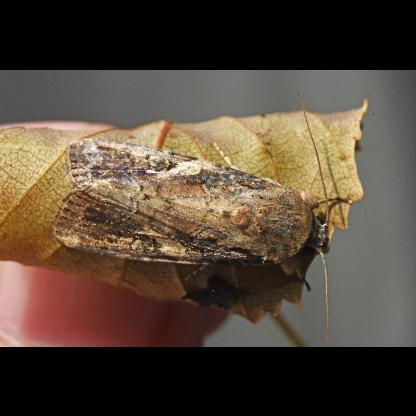Fall Armyworm Moth: (49, 85, 355, 345)
